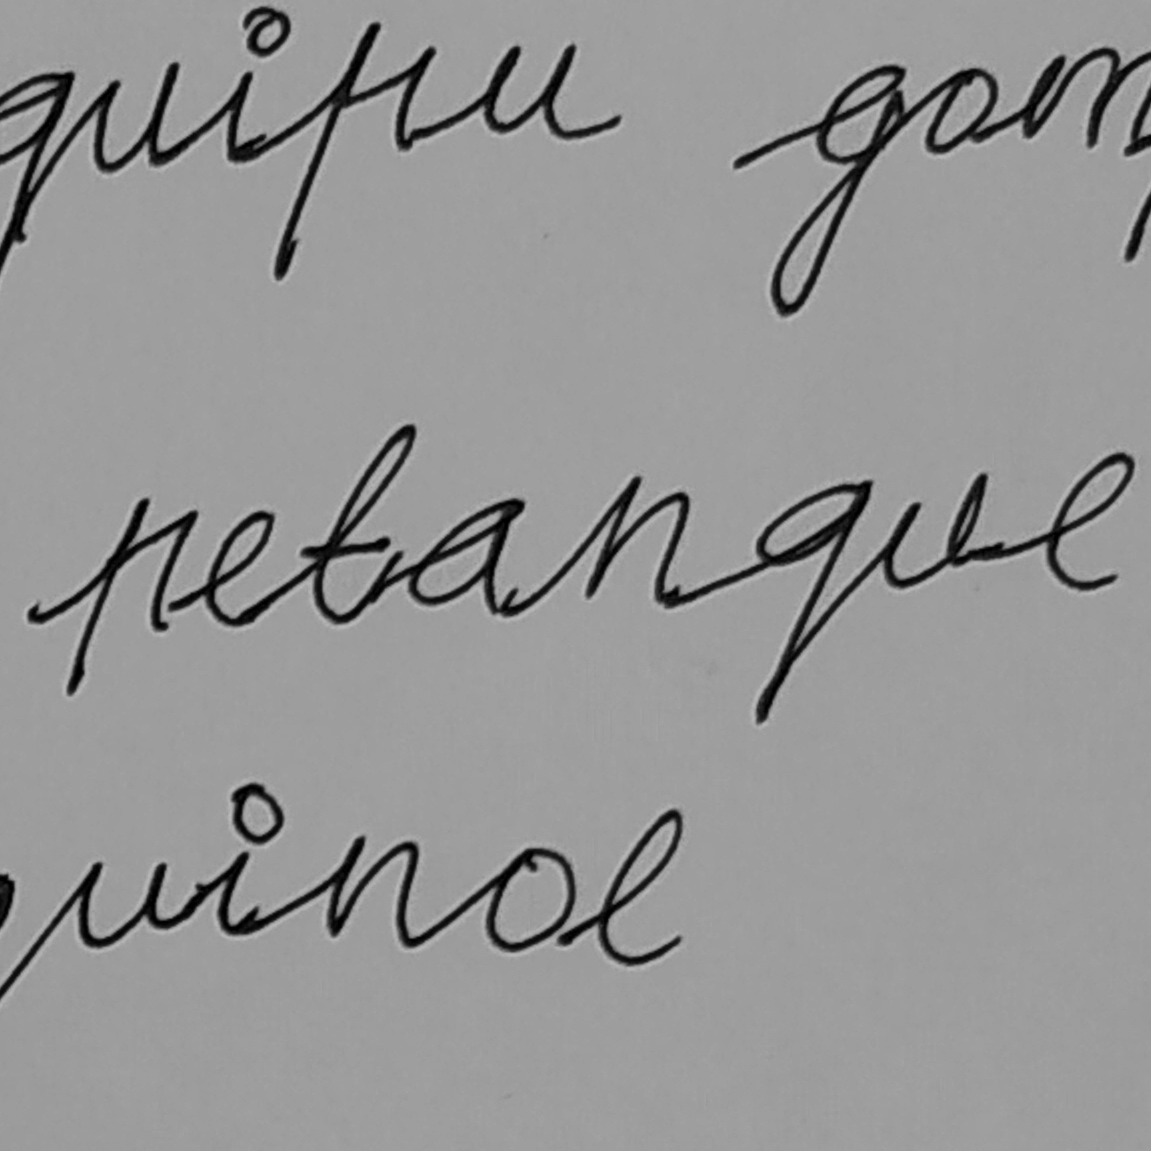a: (402, 493, 530, 620)
e: (1043, 447, 1139, 596), (204, 505, 280, 631)
n: (580, 470, 694, 613)
p: (61, 494, 202, 702)
q: (746, 473, 876, 729)
t: (296, 421, 420, 627)
u: (881, 469, 992, 592)
